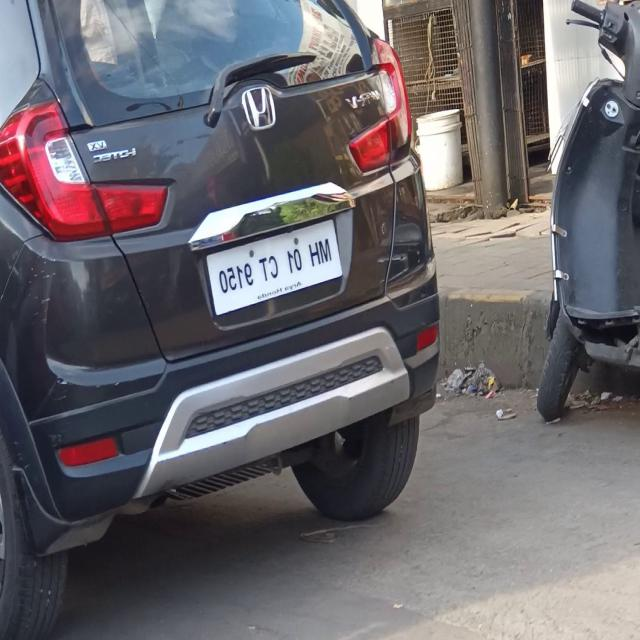license_plate: (194, 205, 350, 328)
